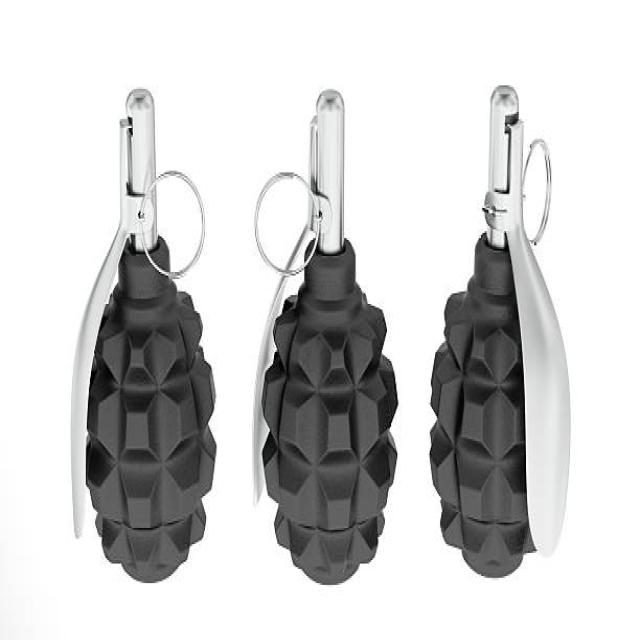grenade: (62, 71, 224, 599), (421, 68, 578, 583), (250, 83, 404, 589)
